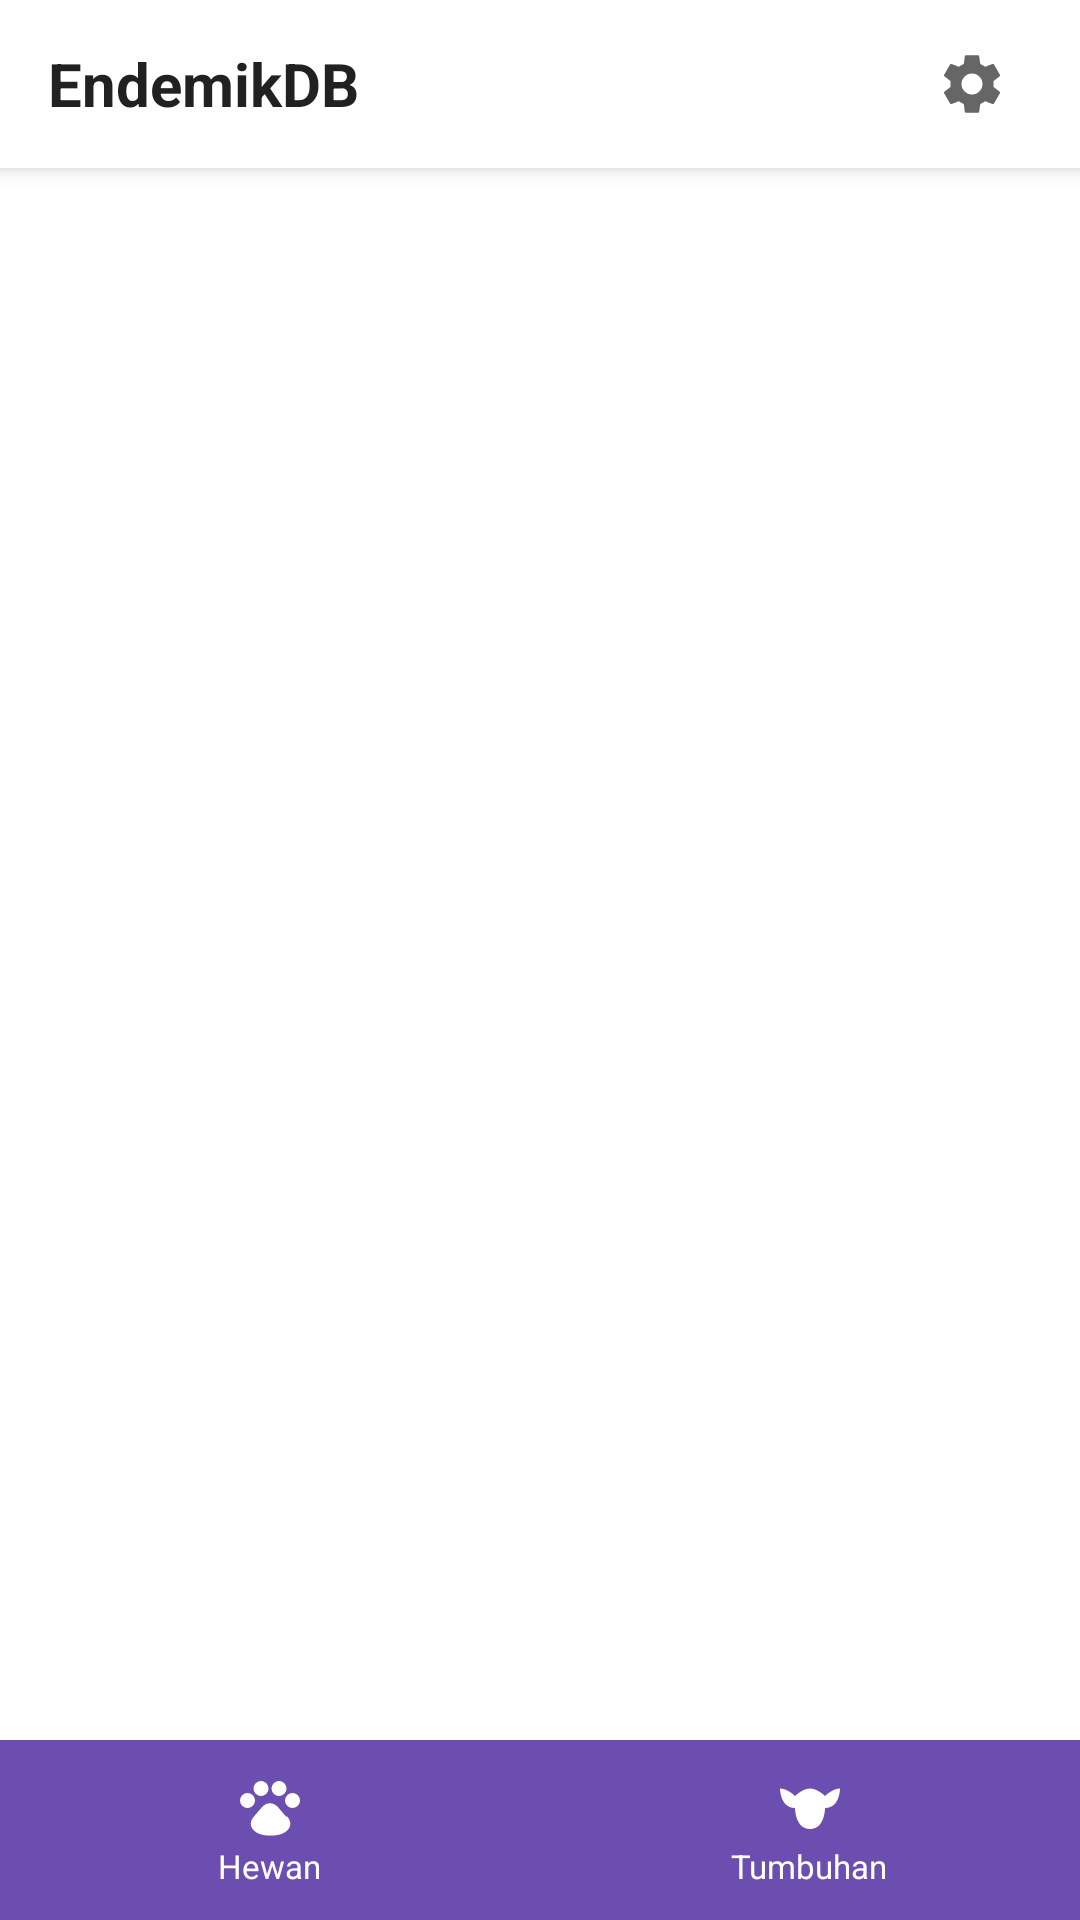

Icons on this 1080px x 1920px Android screen, each with the point to tap as [x,y]:
Settings: [972,84]
